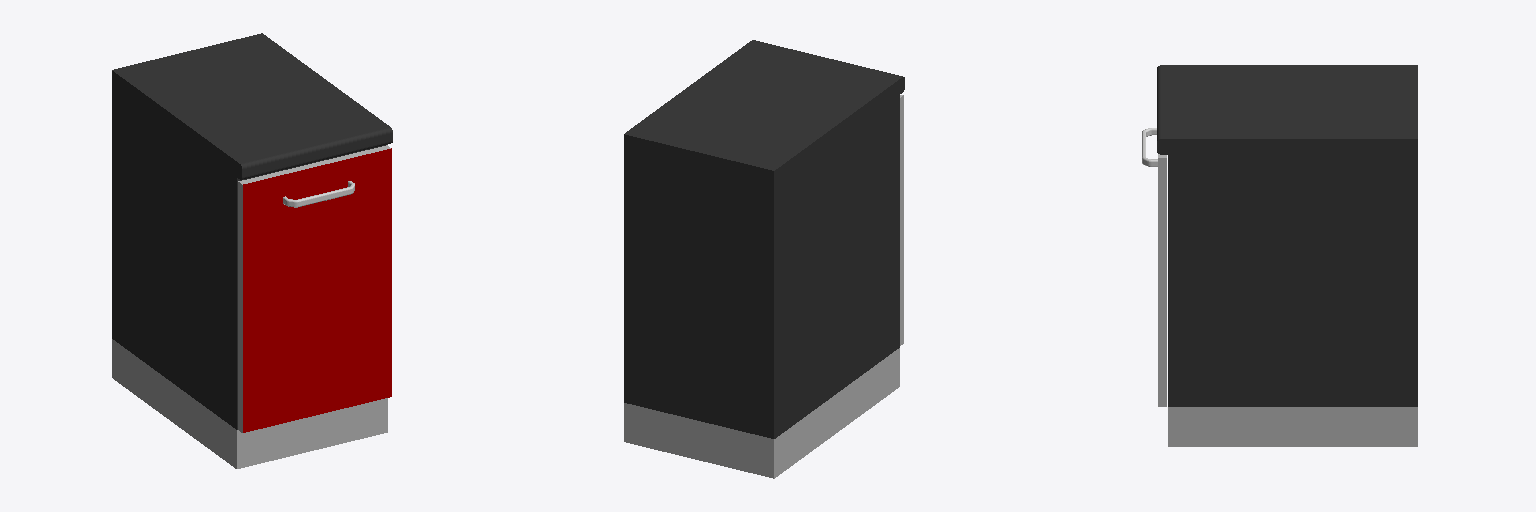
File: singolo.obj
3 renders of one model, left to right at view 1: azimuth 30°, elevation 25°; view 2: azimuth 150°, elevation 25°; view 3: azimuth 270°, elevation 25°, orthographic.
Parts seen in each view (by area): view 1: Box052_4, Box03_6, Line03_2, Box02_7, Box053_5, Box05_3, Loft01_1; view 2: Box03_6, Line03_2, Box02_7, Box053_5; view 3: Box03_6, Line03_2, Box02_7, Box053_5.
Boxes of the visible parts, x1,y1,x2,y2 form: Box052_4: [243, 148, 391, 432]; Box03_6: [112, 86, 387, 429]; Line03_2: [112, 33, 392, 179]; Box02_7: [112, 339, 387, 468]; Box053_5: [238, 182, 242, 432]; Box05_3: [238, 145, 390, 184]; Loft01_1: [283, 181, 354, 207]; Box03_6: [624, 95, 899, 438]; Line03_2: [624, 40, 904, 186]; Box02_7: [624, 348, 899, 478]; Box053_5: [900, 95, 903, 345]; Box03_6: [1168, 155, 1417, 406]; Line03_2: [1157, 65, 1417, 154]; Box02_7: [1168, 407, 1417, 446]; Box053_5: [1158, 158, 1166, 406].
Size of the model in its own units: 40 by 78 by 63.38.